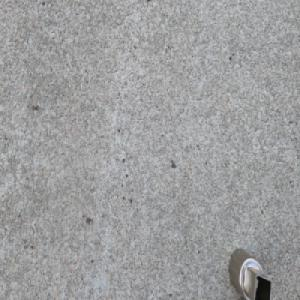MetalPart: (226, 244, 272, 300)
